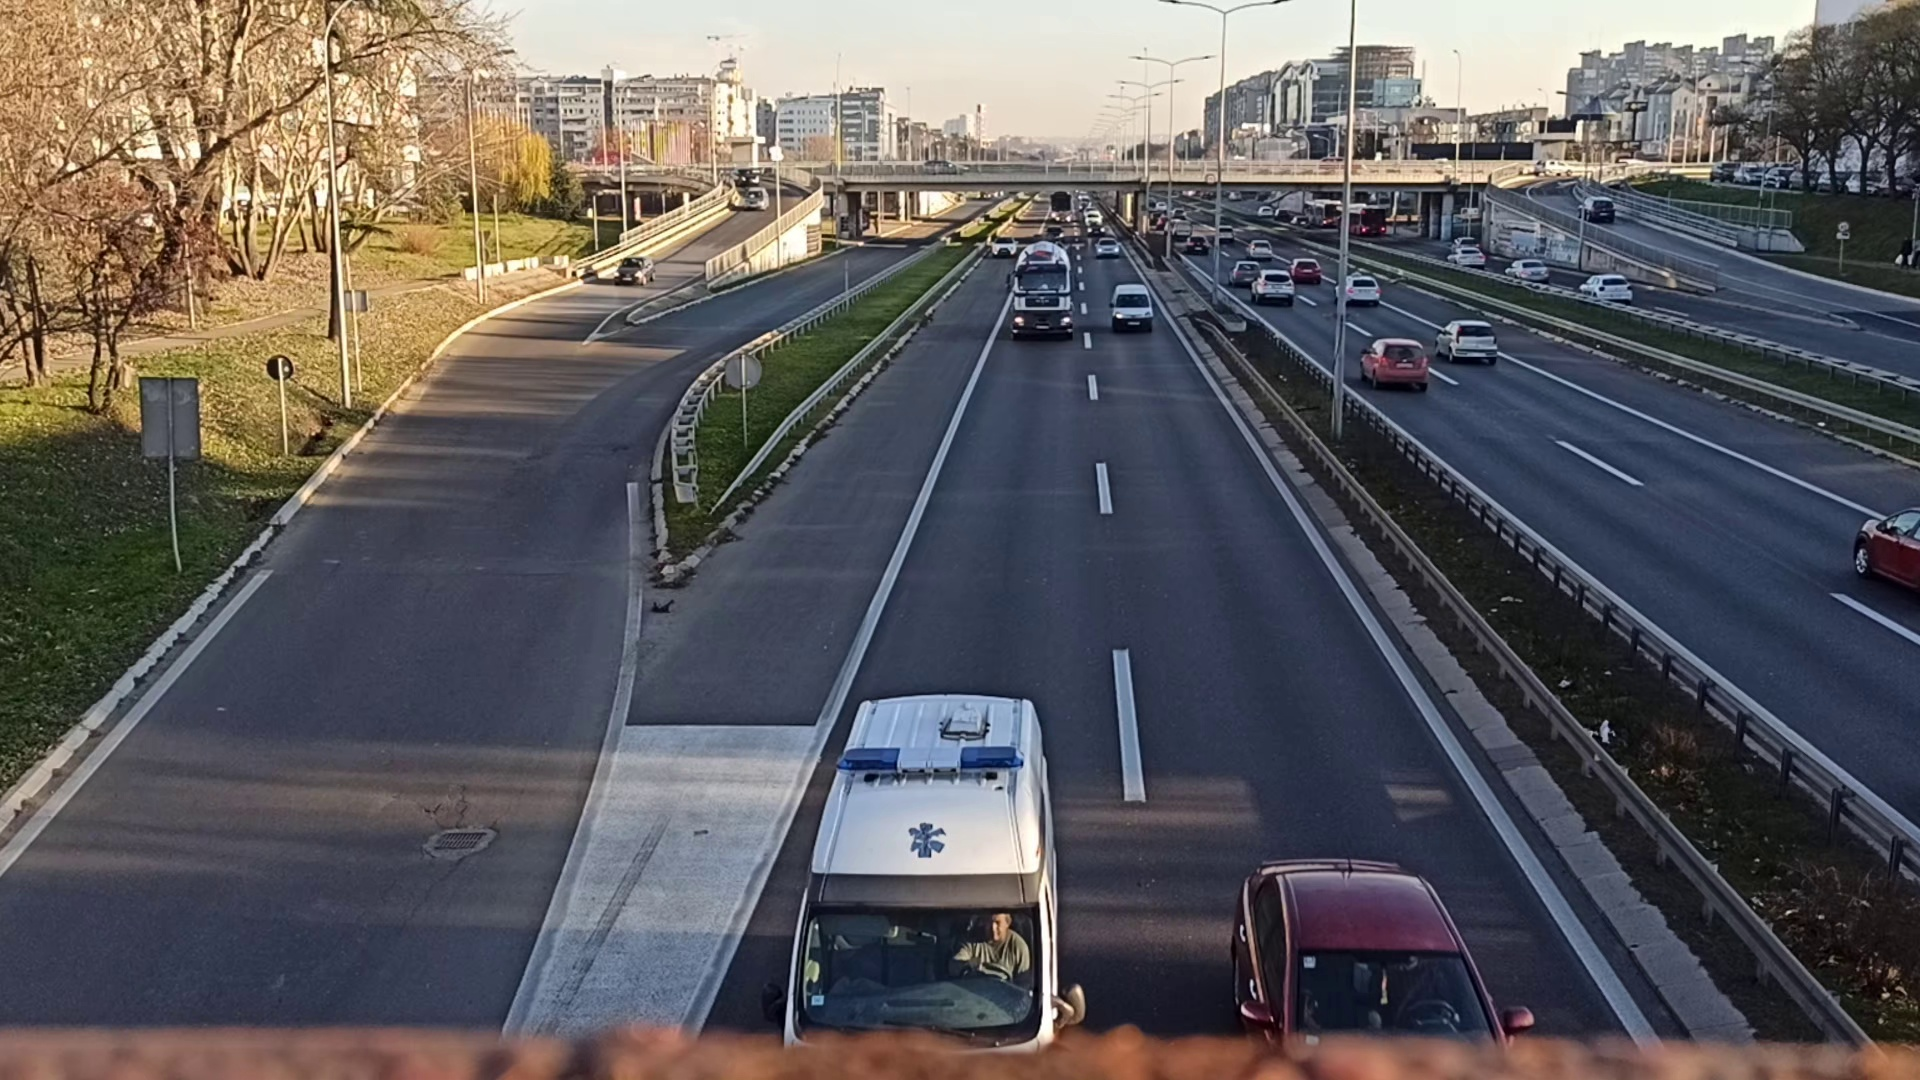car: (1225, 856, 1538, 1043), (1362, 334, 1425, 389), (1433, 319, 1497, 367), (616, 252, 654, 284)
truck: (1011, 252, 1069, 334)
van: (798, 690, 1093, 1036), (1109, 282, 1153, 334)
